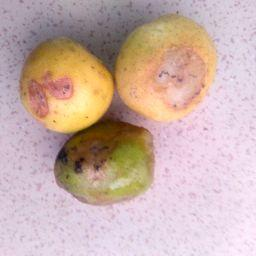lemon: (112, 11, 220, 125), (17, 32, 118, 137), (50, 121, 157, 208)
